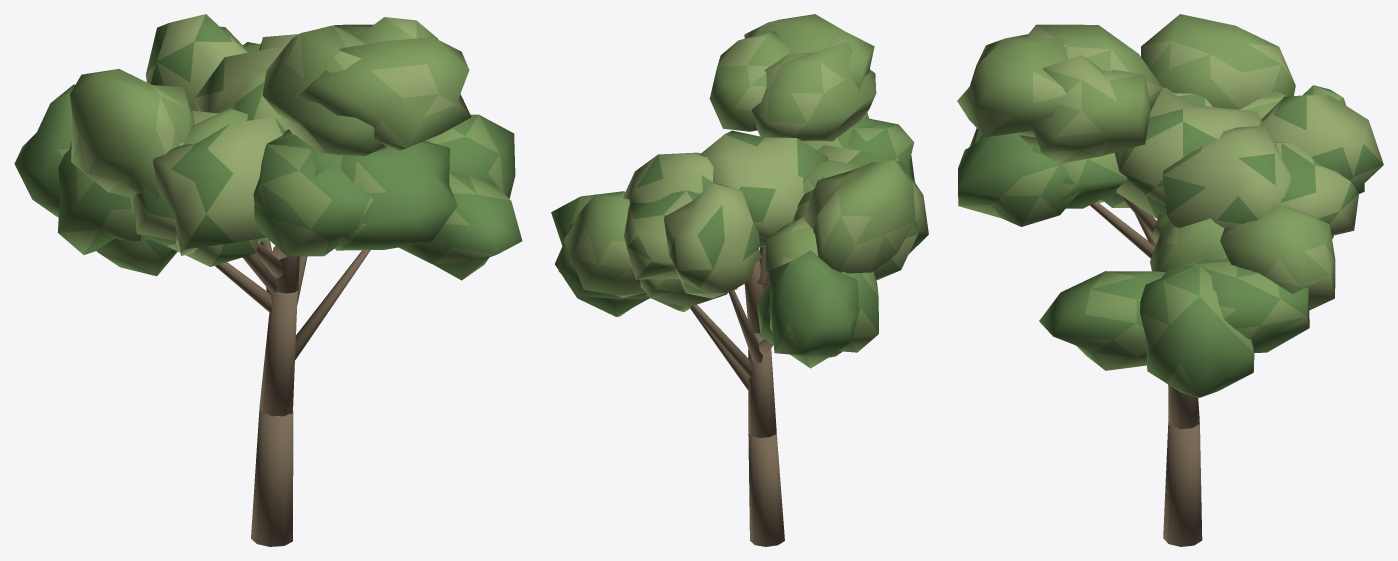
Rendered from TreeBroadleaf.fbx.
3 views of the same model, side by side, from view 1: azimuth 30°, elevation 25°; view 2: azimuth 150°, elevation 25°; view 3: azimuth 270°, elevation 25° (orthographic). The views are drawn at different scales.
Parts seen in each view (by area): view 1: Varied leaf crown, Varied leaf crown.003, Varied leaf crown.006, Tapered trunk; view 2: Varied leaf crown.003, Varied leaf crown.006, Varied leaf crown, Tapered trunk; view 3: Varied leaf crown.003, Varied leaf crown, Varied leaf crown.006, Tapered trunk.
Part boxes in pixels (<box>): Varied leaf crown: <box>14,84,522,280</box>; Varied leaf crown.003: <box>70,17,471,198</box>; Varied leaf crown.006: <box>130,14,297,266</box>; Tapered trunk: <box>215,241,370,546</box>; Varied leaf crown.003: <box>564,14,915,311</box>; Varied leaf crown.006: <box>623,130,928,298</box>; Varied leaf crown: <box>551,112,914,368</box>; Tapered trunk: <box>690,246,784,546</box>; Varied leaf crown.003: <box>957,14,1335,310</box>; Varied leaf crown: <box>958,85,1364,397</box>; Varied leaf crown.006: <box>1097,89,1383,235</box>; Tapered trunk: <box>1090,193,1202,546</box>.
Size of the model in its own units: 669 by 819 by 621.
